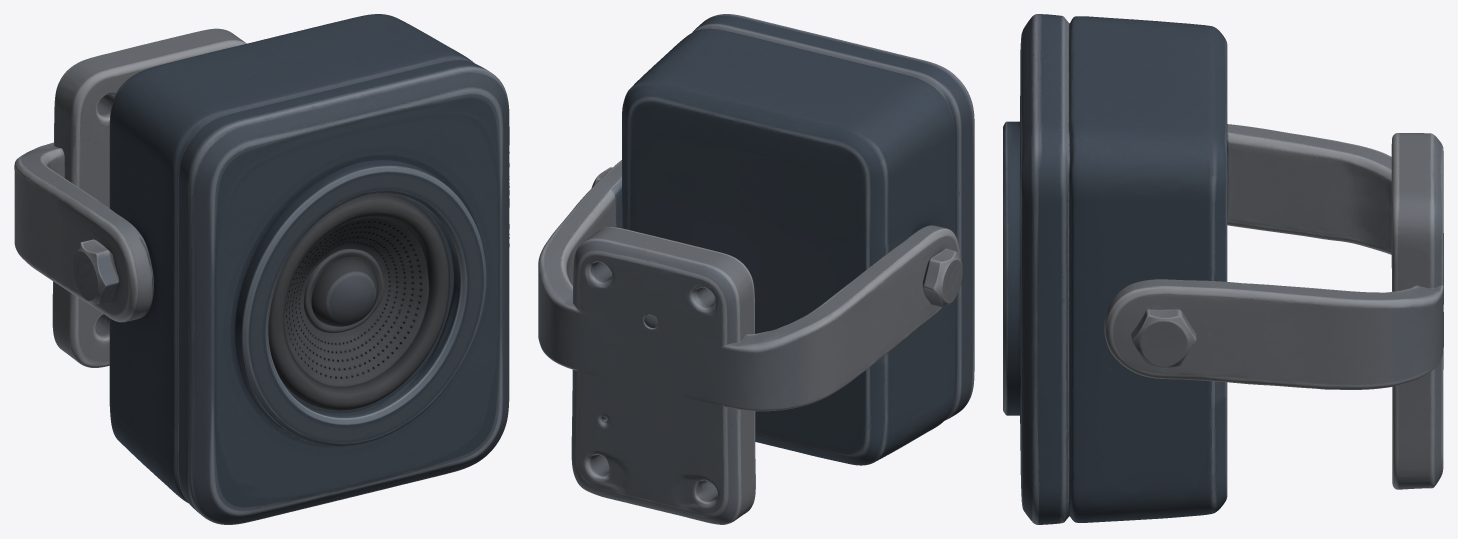
File: Meshy_AI_Mounted_Speaker_Icon_20261028_texture.fbx
3 views of the same model, side by side, from view 1: azimuth 30°, elevation 25°; view 2: azimuth 150°, elevation 25°; view 3: azimuth 270°, elevation 25° (orthographic). The views are drawn at different scales.
Visible parts, largest first — view 1: Mesh_0; view 2: Mesh_0; view 3: Mesh_0.
Boxes of the visible parts, x1,y1,x2,y2 form: Mesh_0: (14, 14, 509, 524); Mesh_0: (538, 14, 974, 524); Mesh_0: (1003, 14, 1443, 524).
Bounding box in the file's own units: 190 × 182 × 184.
Materials: 1 (1 with a texture image).
